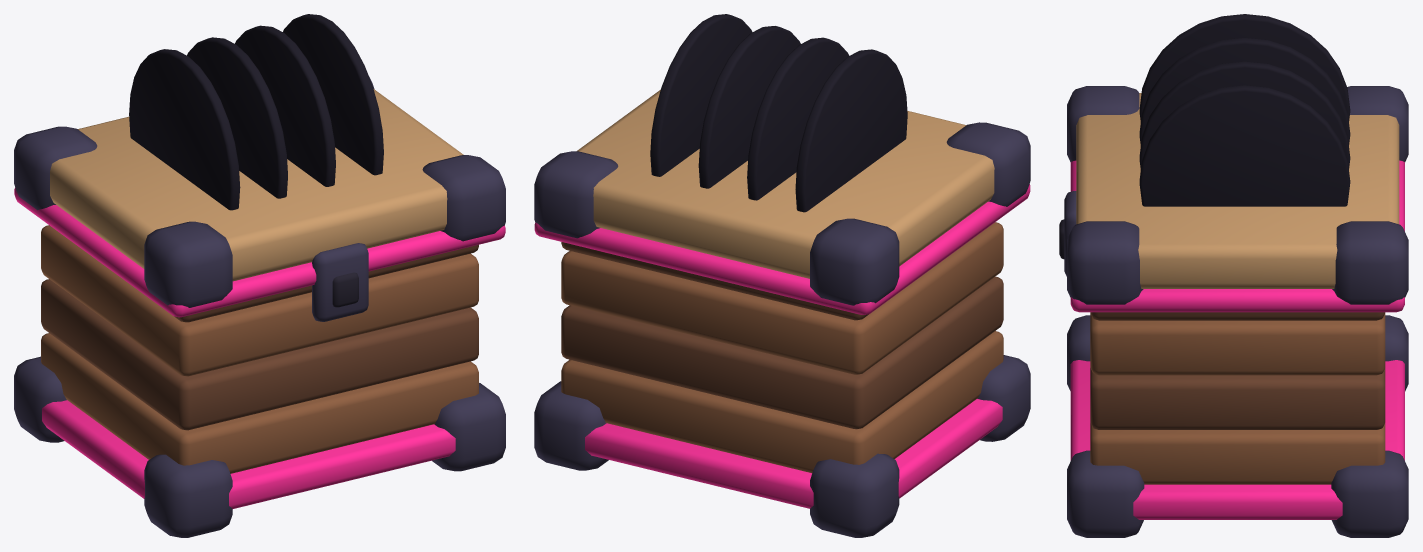
Rendered from VinylCrate.fbx.
3 renders of one model, left to right at view 1: azimuth 30°, elevation 25°; view 2: azimuth 150°, elevation 25°; view 3: azimuth 270°, elevation 25°, orthographic.
Parts seen in each view (by area): view 1: Wood, Cone, Woodlight, Body, Wooddark, Neon_Magenta, Dark; view 2: Wood, Cone, Woodlight, Body, Wooddark, Neon_Magenta; view 3: Cone, Wood, Body, Woodlight, Wooddark, Neon_Magenta.
Part boxes in pixels (left/top/right/bottom): Wood: left=41, top=225, right=478, bottom=473; Cone: left=129, top=14, right=383, bottom=210; Woodlight: left=50, top=89, right=463, bottom=281; Body: left=14, top=76, right=505, bottom=537; Wooddark: left=41, top=244, right=478, bottom=430; Neon_Magenta: left=14, top=187, right=505, bottom=508; Dark: left=332, top=272, right=358, bottom=307; Wood: left=561, top=222, right=1003, bottom=472; Cone: left=650, top=14, right=907, bottom=212; Woodlight: left=577, top=89, right=994, bottom=278; Body: left=534, top=122, right=1030, bottom=537; Wooddark: left=561, top=242, right=1003, bottom=429; Neon_Magenta: left=534, top=184, right=1030, bottom=508; Cone: left=1139, top=14, right=1350, bottom=206; Wood: left=1090, top=313, right=1385, bottom=484; Body: left=1064, top=86, right=1408, bottom=537; Woodlight: left=1076, top=93, right=1399, bottom=288; Wooddark: left=1090, top=312, right=1385, bottom=429; Neon_Magenta: left=1070, top=160, right=1404, bottom=519.
Size of the model in its own units: 2.26 by 2.58 by 1.99.
